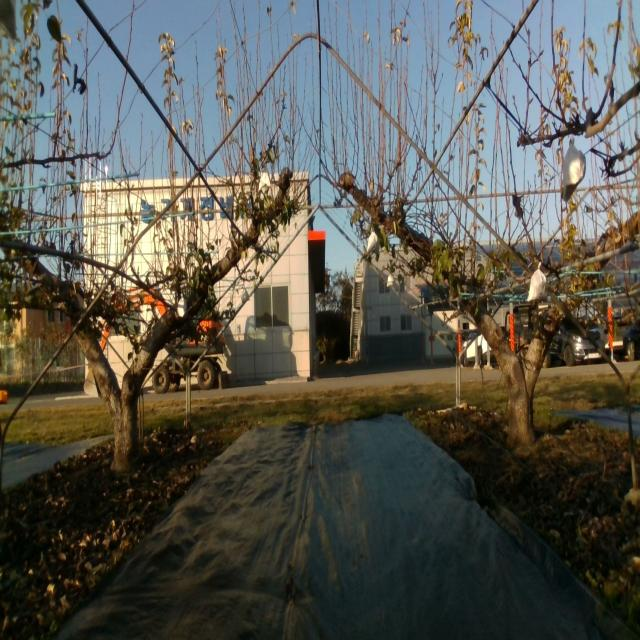pearbags: (562, 143, 586, 204), (526, 262, 548, 304), (258, 166, 271, 190)
